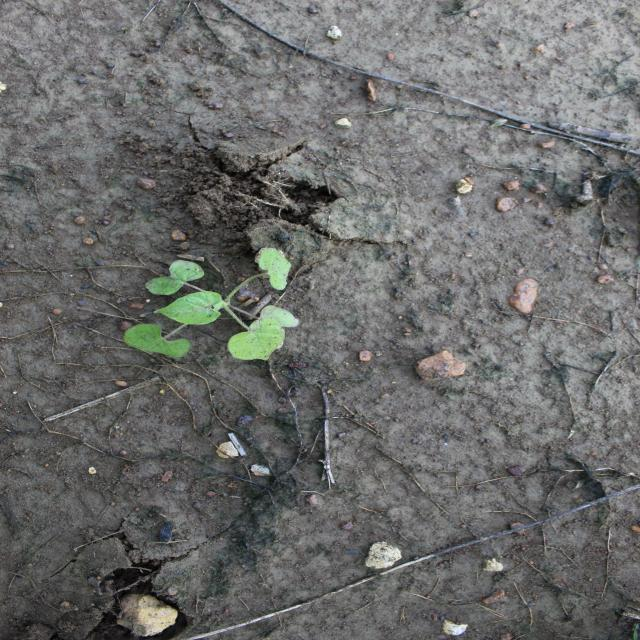MorningGlory: (121, 244, 307, 367)
